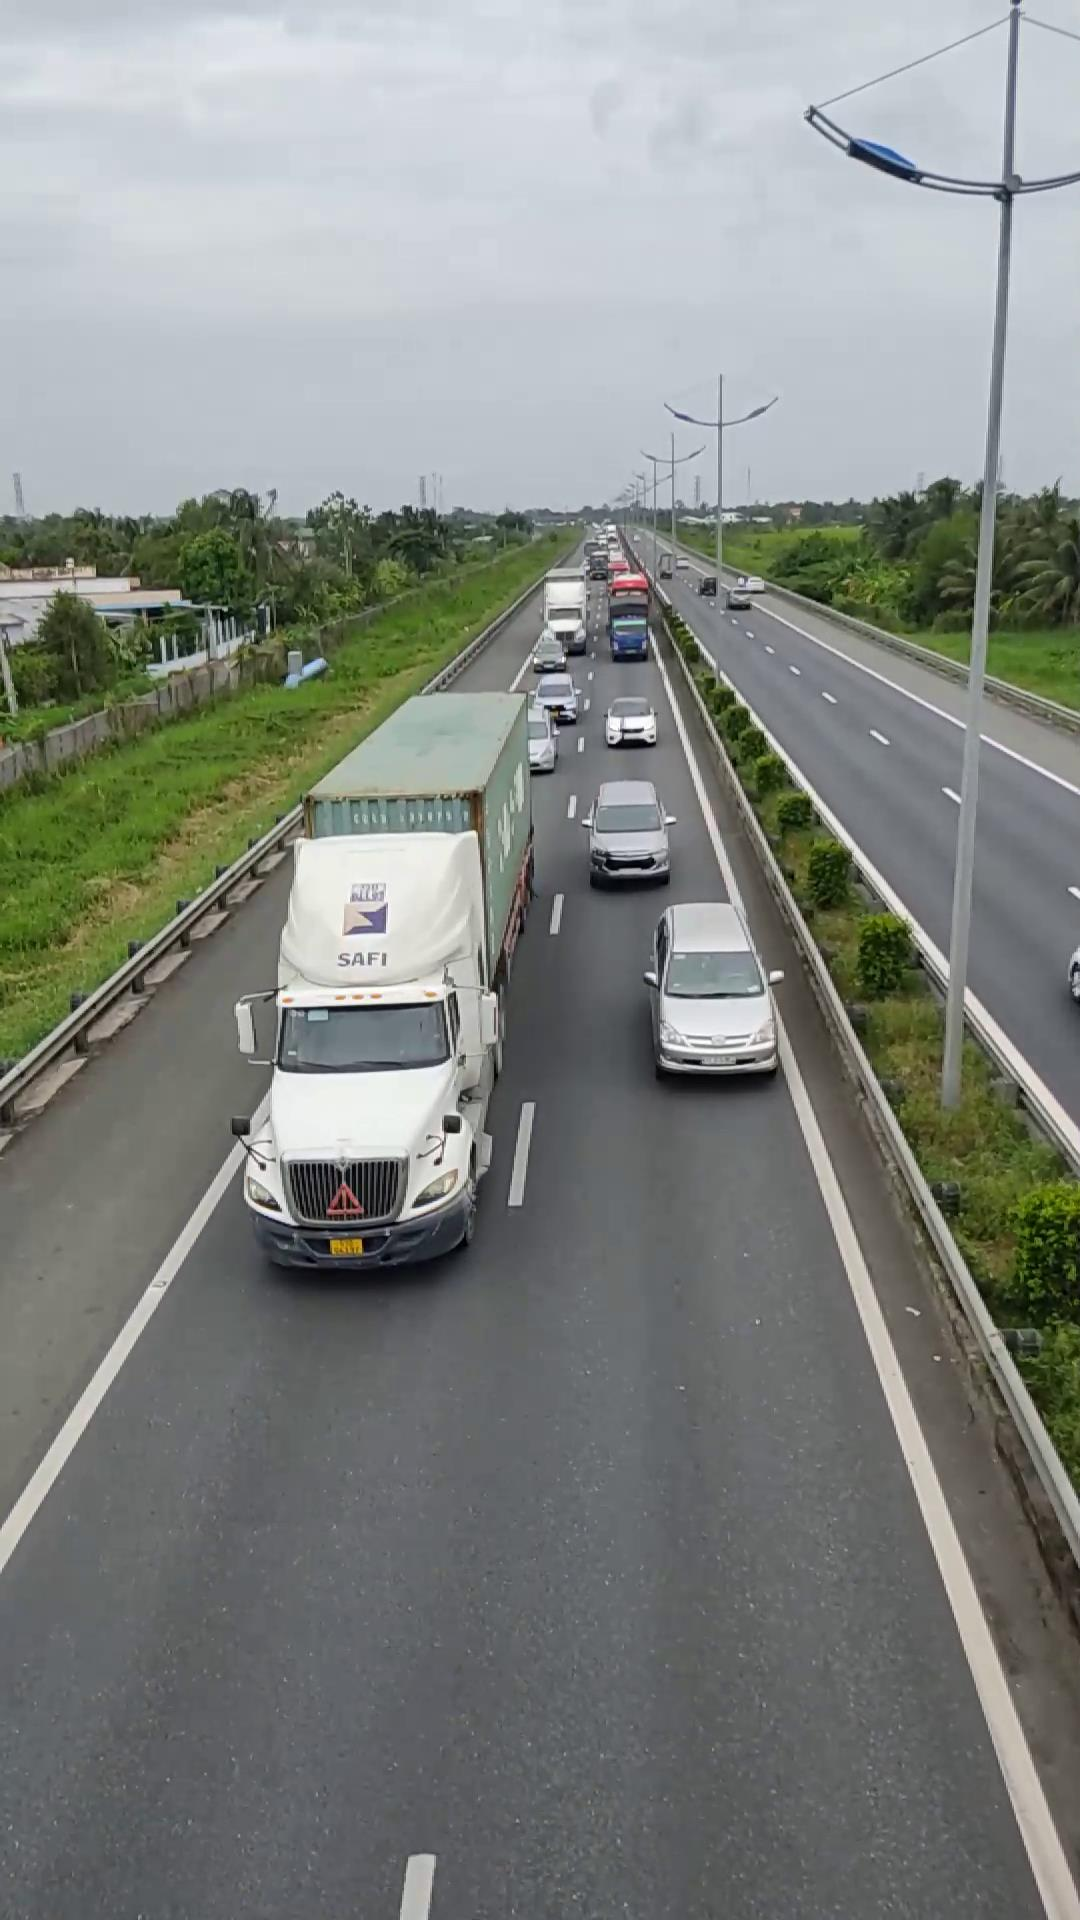car: (642, 899, 781, 1079), (582, 779, 675, 887)
container: (235, 683, 533, 1275)
